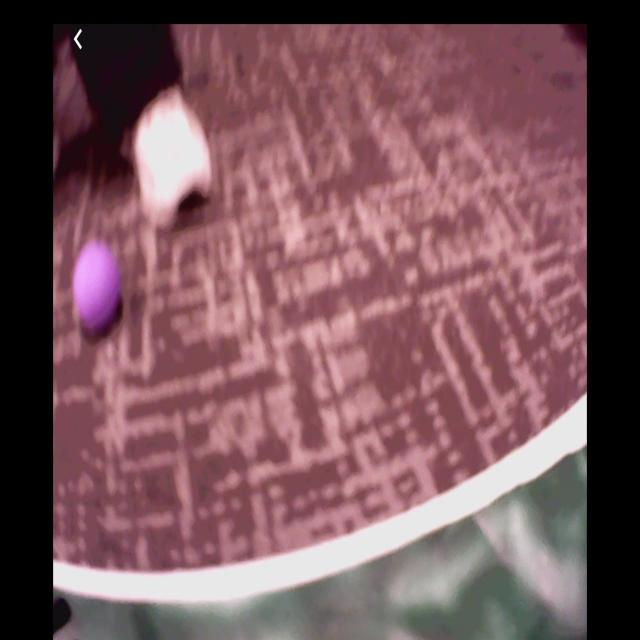ball: (73, 244, 121, 328)
